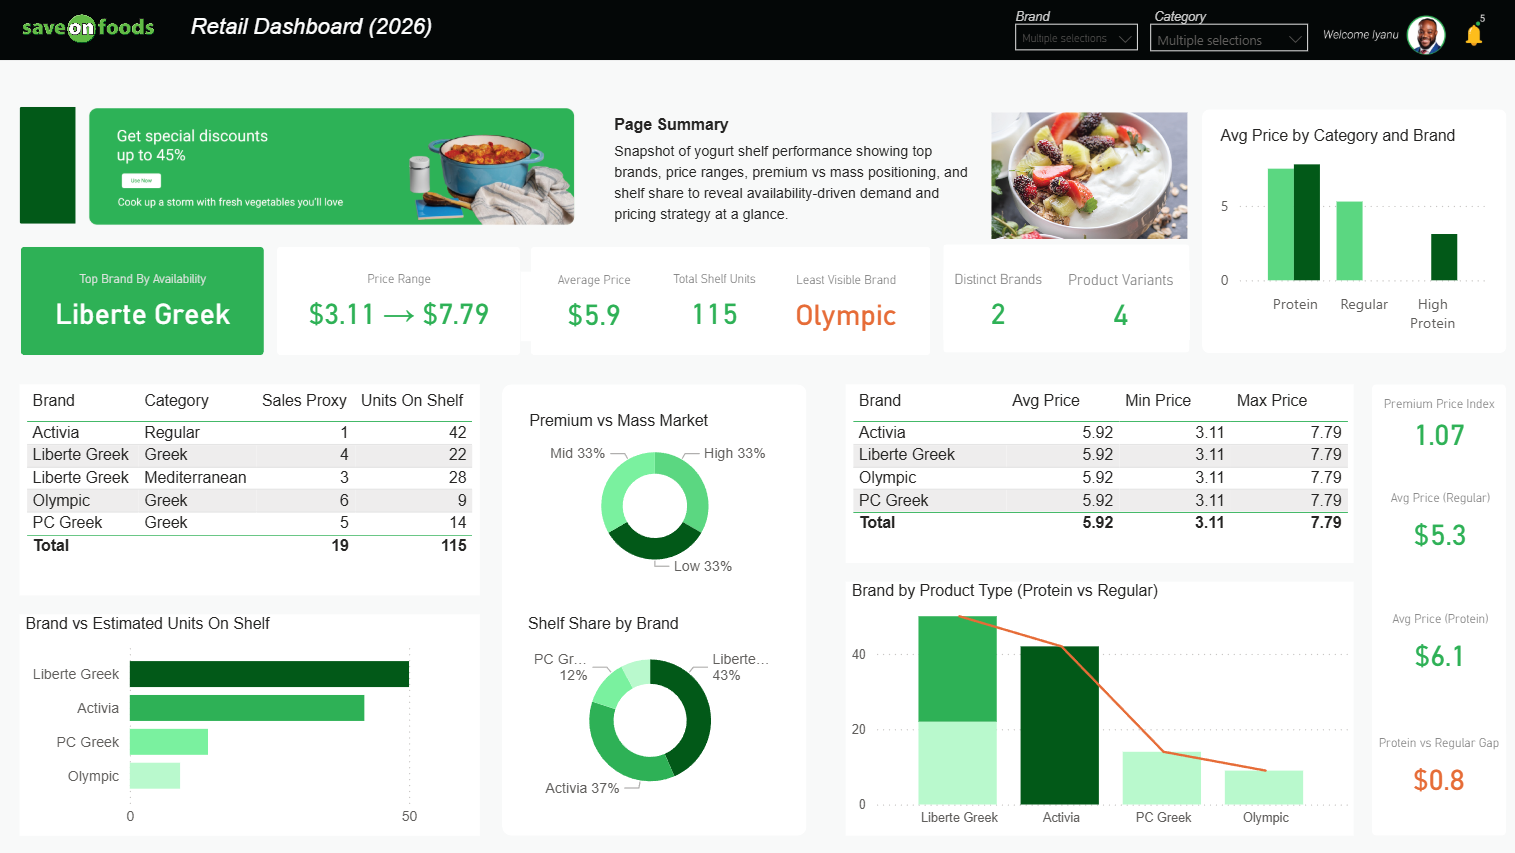

What the dashboard file says about the page in this screenshot:
{"tool":"powerbi","page":{"name":"Dashboard Main","canvas":[1280,720],"ordinal":0},"visuals":[{"type":"image","box":[0,0,1280.2,720.2],"z":0},{"type":"slicer","fields":{"Values":["Dim_Brand.Brand"]},"box":[851.8,16.9,113.3,35.2],"z":1000},{"type":"slicer","fields":{"Values":["yogurt_shelf_conspicuous_brands.Category"]},"box":[965.2,16.8,143,34.7],"z":2000},{"type":"textbox","box":[968.3,0,68.3,32.6],"z":3000},{"type":"textbox","box":[851.8,0,71.6,32.6],"z":4000},{"type":"textbox","box":[157.6,13,247.5,24.7],"z":5000},{"type":"image","box":[0,0,148.5,52.1],"z":6000},{"type":"textbox","box":[513.8,113.9,318,84.2],"z":7000},{"type":"shape","box":[19.5,209.7,204.5,91.2],"z":8000},{"type":"card","title":"Top Brand By  Availability","fields":{"Values":["Measures_Table.Top Brand (Availability)"]},"box":[31.3,229.2,182.3,58.6],"z":9000},{"type":"shape","box":[235.7,209.7,204.5,91.2],"z":10000},{"type":"card","title":"Price Range","fields":{"Values":["Measures_Table.Price Range (Min → Max)"]},"box":[252.7,229.2,171.9,58.6],"z":11000},{"type":"shape","box":[449.3,209.7,336,91.2],"z":12000},{"type":"card","title":"Average Price","fields":{"Values":["Measures_Table.Avg Price"]},"box":[440.2,230.5,123.7,58.6],"z":13000},{"type":"card","title":"Least Visible Brand","fields":{"Values":["Measures_Table.Least Visible Brand"]},"box":[617.3,230.5,194.1,58.6],"z":14000},{"type":"shape","box":[795.8,207.1,207.1,91.2],"z":15000},{"type":"card","title":"Product Variants","fields":{"Values":["Measures_Table.Product Variants"]},"box":[886.9,229.2,115.9,58.6],"z":16000},{"type":"card","title":"Total Shelf Units","fields":{"Values":["Measures_Table.Total Shelf Units"]},"box":[548.3,229.2,109.4,58.6],"z":17000},{"type":"card","title":"Distinct Brands","fields":{"Values":["Measures_Table.Distinct Brands"]},"box":[795.8,229.2,92.5,58.6],"z":18000},{"type":"shape","box":[19,91.4,47.5,98.5],"z":19000},{"type":"clusteredBarChart","title":"Brand vs Estimated Units On Shelf","fields":{"Category":["yogurt_shelf_conspicuous_brands.Brand"],"Y":["Sum(yogurt_shelf_conspicuous_brands.Estimated_Units_On_Shelf)"]},"box":[19,518.5,386.8,186.3],"z":20000},{"type":"tableEx","fields":{"Values":["yogurt_shelf_conspicuous_brands.Brand","yogurt_shelf_conspicuous_brands.Category","Sum(yogurt_shelf_conspicuous_brands.Sales_Proxy_Rank)","Sum(yogurt_shelf_conspicuous_brands.Estimated_Units_On_Shelf)"]},"box":[19,325.1,386.8,178],"z":21000},{"type":"shape","box":[424.8,325.1,256.3,379.7],"z":22000},{"type":"lineStackedColumnComboChart","title":"Brand by Product Type (Protein vs Regular)","fields":{"Category":["yogurt_shelf_conspicuous_brands.Brand"],"Series":["yogurt_shelf_conspicuous_brands.Category"],"Y2":["Sum(yogurt_shelf_conspicuous_brands.Estimated_Units_On_Shelf)"],"Y":["Sum(yogurt_shelf_conspicuous_brands.Estimated_Units_On_Shelf)"]},"box":[714.3,491.2,427.1,213.6],"z":23000},{"type":"donutChart","title":"Premium vs Mass Market","fields":{"Category":["yogurt_shelf_expanded.Price Tier"],"Y":["Measures_Table.Total Shelf Units"]},"box":[442.6,347.6,221.9,143.6],"z":24000},{"type":"donutChart","title":"Shelf Share by Brand","fields":{"Category":["yogurt_shelf_conspicuous_brands.Brand"],"Y":["Measures_Table.Total Shelf Units"]},"box":[441.4,518.5,215.9,163.7],"z":25000},{"type":"tableEx","fields":{"Values":["yogurt_shelf_conspicuous_brands.Brand","Measures_Table.Avg Price","Measures_Table.Min Price","Measures_Table.Max Price"]},"box":[714.3,325.1,427.1,150.7],"z":26000},{"type":"shape","box":[1156.8,325.1,112.7,379.7],"z":27000},{"type":"shape","box":[1013.3,93.7,256.3,205.3],"z":28000},{"type":"clusteredColumnChart","fields":{"Category":["yogurt_shelf_expanded.Category"],"Y":["Measures_Table.Avg Price"],"Series":["Dim_Brand.Brand"]},"box":[1024,108,234.9,180.3],"z":29000},{"type":"card","title":"Premium Price Index","fields":{"Values":["Measures_Table.Premium Price Index"]},"box":[1154.5,334.6,117.5,52.2],"z":30000},{"type":"card","title":"Avg Price (Protein)","fields":{"Values":["Measures_Table.Avg Price (Protein)"]},"box":[1156.8,514.9,115.1,62.9],"z":31000},{"type":"card","title":"Avg Price (Regular)","fields":{"Values":["Measures_Table.Avg Price (Regular)"]},"box":[1156.8,412.9,115.1,62.9],"z":32000},{"type":"card","title":"Protein vs Regular Gap","fields":{"Values":["Measures_Table.Protein vs Regular Gap"]},"box":[1156.8,619.4,112.7,62.9],"z":33000},{"type":"textbox","box":[513.8,91.4,318,28.5],"z":34000},{"type":"image","box":[831.7,91.4,170.9,116.3],"z":35000}]}

Visuals, with their boxes in screenshot pixels (x1, y1, x2, y2), scaled from the page's 1280x720 canvas onto the 1515x853 screenshot:
image: rect(0, 0, 1514, 852)
slicer - Dim_Brand.Brand: rect(1008, 20, 1142, 62)
slicer - yogurt_shelf_conspicuous_brands.Category: rect(1142, 20, 1312, 61)
textbox: rect(1146, 0, 1227, 39)
textbox: rect(1008, 0, 1093, 39)
textbox: rect(187, 15, 479, 45)
image: rect(0, 0, 176, 62)
textbox: rect(608, 135, 985, 235)
shape: rect(23, 248, 265, 356)
"Top Brand By  Availability" card: rect(37, 272, 253, 341)
shape: rect(279, 248, 521, 356)
"Price Range" card: rect(299, 272, 503, 341)
shape: rect(532, 248, 929, 356)
"Average Price" card: rect(521, 273, 667, 343)
"Least Visible Brand" card: rect(731, 273, 960, 343)
shape: rect(942, 245, 1187, 353)
"Product Variants" card: rect(1050, 272, 1187, 341)
"Total Shelf Units" card: rect(649, 272, 778, 341)
"Distinct Brands" card: rect(942, 272, 1051, 341)
shape: rect(22, 108, 79, 225)
"Brand vs Estimated Units On Shelf" clusteredBarChart: rect(22, 614, 480, 835)
tableEx - yogurt_shelf_conspicuous_brands.Brand x yogurt_shelf_conspicuous_brands.Category: rect(22, 385, 480, 596)
shape: rect(503, 385, 806, 835)
"Brand by Product Type (Protein vs Regular)" lineStackedColumnComboChart: rect(845, 582, 1351, 835)
"Premium vs Mass Market" donutChart: rect(524, 412, 786, 582)
"Shelf Share by Brand" donutChart: rect(522, 614, 778, 808)
tableEx - yogurt_shelf_conspicuous_brands.Brand x Measures_Table.Avg Price: rect(845, 385, 1351, 564)
shape: rect(1369, 385, 1503, 835)
shape: rect(1199, 111, 1503, 354)
clusteredColumnChart - yogurt_shelf_expanded.Category x Measures_Table.Avg Price: rect(1212, 128, 1490, 342)
"Premium Price Index" card: rect(1366, 396, 1506, 458)
"Avg Price (Protein)" card: rect(1369, 610, 1505, 685)
"Avg Price (Regular)" card: rect(1369, 489, 1505, 564)
"Protein vs Regular Gap" card: rect(1369, 734, 1503, 808)
textbox: rect(608, 108, 985, 142)
image: rect(984, 108, 1187, 246)
